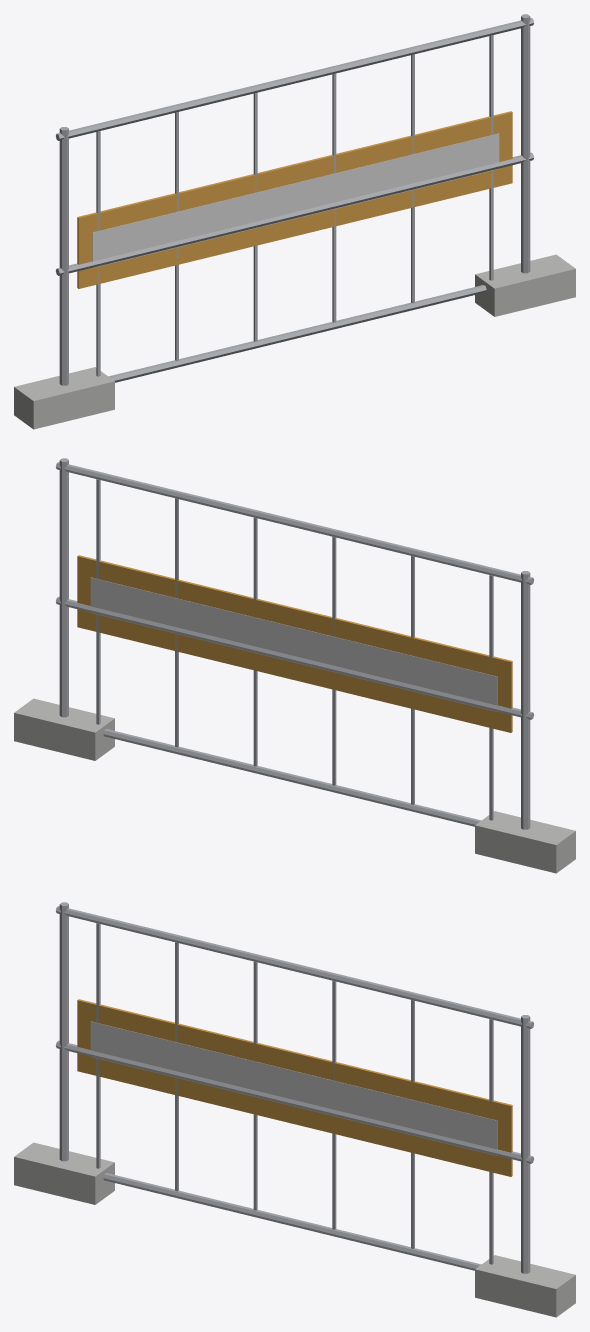
The model's file is Santiye_Citi.glb.
The picture shows the model from 3 angles, top to bottom: view 1: azimuth 30°, elevation 25°; view 2: azimuth 150°, elevation 25°; view 3: azimuth 330°, elevation 25°; orthographic projection.
Visible parts, largest first — view 1: Santiye_Citi; view 2: Santiye_Citi; view 3: Santiye_Citi.
Part boxes in pixels (bbox=[...]): Santiye_Citi: bbox=[14, 14, 575, 429]; Santiye_Citi: bbox=[14, 458, 575, 873]; Santiye_Citi: bbox=[14, 902, 575, 1317].
Bounding box in the file's own units: 4 × 2 × 0.25.
